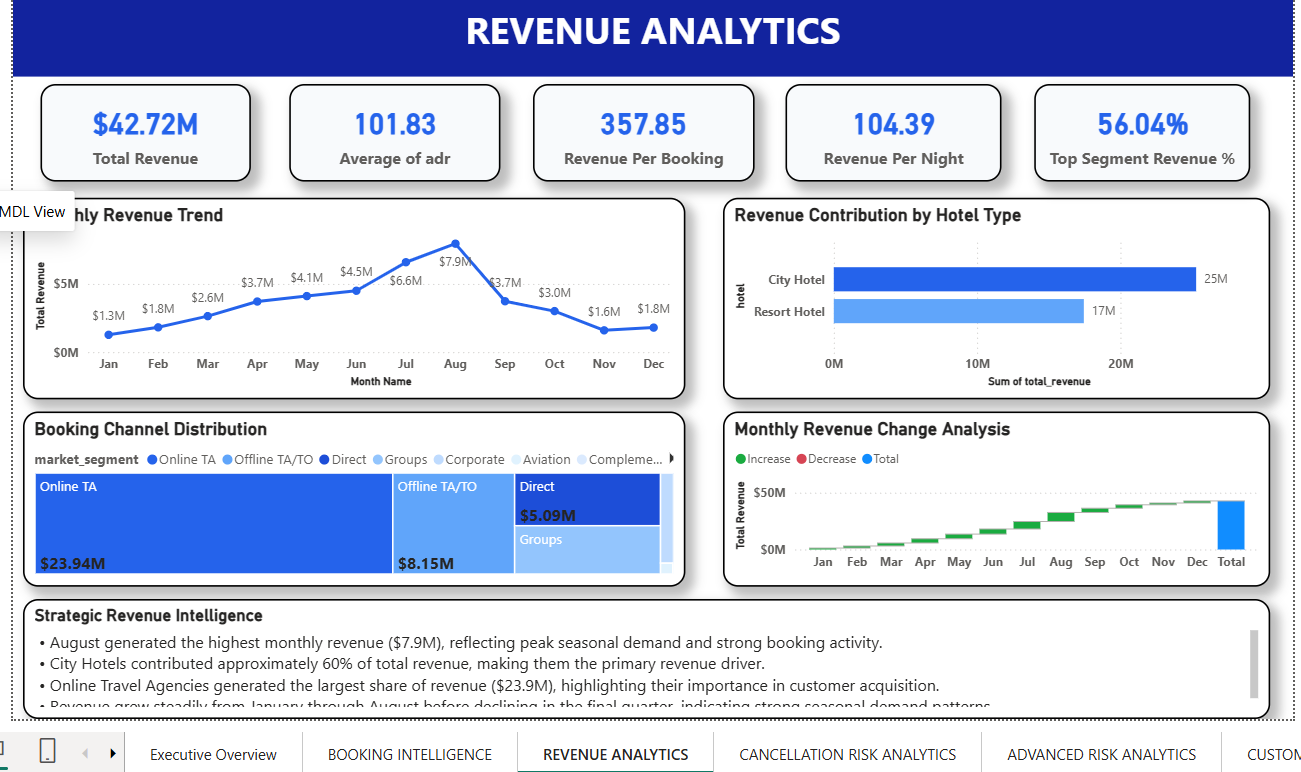

What the dashboard file says about the page in this screenshot:
{"tool":"powerbi","page":{"name":"REVENUE ANALYTICS","canvas":[1280,720],"ordinal":2},"visuals":[{"type":"textbox","box":[0,0,1280,77.5],"z":0},{"type":"card","fields":{"Values":["Avg(final_hotel_analytics_dataset.adr)"]},"box":[276.2,85,211.2,97.5],"z":1},{"type":"card","fields":{"Values":["final_hotel_analytics_dataset.Total Revenue"]},"box":[27.5,85,210,97.5],"z":2},{"type":"card","fields":{"Values":["final_hotel_analytics_dataset.Revenue Per Booking"]},"box":[520,85,221.2,97.5],"z":3},{"type":"card","fields":{"Values":["final_hotel_analytics_dataset.Revenue Per Night"]},"box":[772.5,85,216.2,97.5],"z":4},{"type":"lineChart","title":"Monthly Revenue Trend","fields":{"Category":["final_hotel_analytics_dataset.Month Name"],"Y":["final_hotel_analytics_dataset.Total Revenue"]},"box":[10,198.8,662.5,201.2],"z":5},{"type":"clusteredBarChart","title":"Revenue Contribution by Hotel Type","fields":{"Category":["final_hotel_analytics_dataset.hotel"],"Y":["Sum(final_hotel_analytics_dataset.total_revenue)"]},"box":[710,198.8,547.5,201.2],"z":6},{"type":"treemap","title":"Booking Channel Distribution","fields":{"Group":["final_hotel_analytics_dataset.market_segment"],"Values":["final_hotel_analytics_dataset.Total Revenue"]},"box":[10,412.5,662.5,175],"z":8},{"type":"waterfallChart","title":"Monthly Revenue Change Analysis","fields":{"Category":["final_hotel_analytics_dataset.Month Name"],"Y":["final_hotel_analytics_dataset.Total Revenue"]},"box":[710,412.5,547.5,175],"z":9},{"type":"card","fields":{"Values":["final_hotel_analytics_dataset.Top Segment Revenue %"]},"box":[1021.2,85,216.2,97.5],"z":10},{"type":"textbox","title":"Strategic Revenue Intelligence","box":[10,600,1247.5,120],"z":11}]}

Visuals, with their boxes in screenshot pixels (x1, y1, x2, y2):
textbox: <box>7,0,1290,71</box>
card - Avg(final_hotel_analytics_dataset.adr): <box>284,78,495,176</box>
card - final_hotel_analytics_dataset.Total Revenue: <box>34,78,245,176</box>
card - final_hotel_analytics_dataset.Revenue Per Booking: <box>528,78,750,176</box>
card - final_hotel_analytics_dataset.Revenue Per Night: <box>781,78,998,176</box>
"Monthly Revenue Trend" lineChart: <box>17,192,681,394</box>
"Revenue Contribution by Hotel Type" clusteredBarChart: <box>718,192,1267,394</box>
"Booking Channel Distribution" treemap: <box>17,407,681,582</box>
"Monthly Revenue Change Analysis" waterfallChart: <box>718,407,1267,582</box>
card - final_hotel_analytics_dataset.Top Segment Revenue %: <box>1030,78,1247,176</box>
"Strategic Revenue Intelligence" textbox: <box>17,595,1267,715</box>
